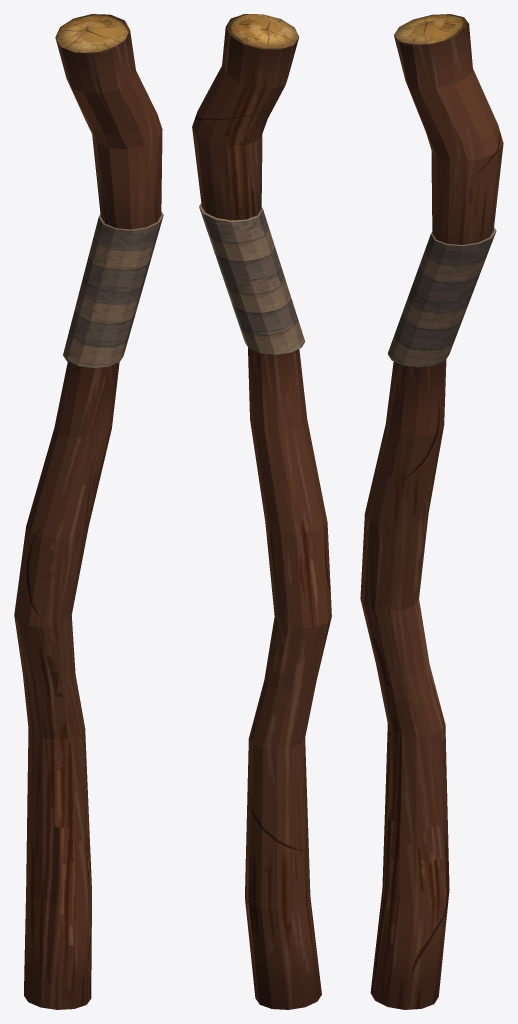
File: staff.glb
3 views of the same model, side by side, from view 1: azimuth 30°, elevation 25°; view 2: azimuth 150°, elevation 25°; view 3: azimuth 330°, elevation 25° (orthographic). The views are drawn at different scales.
Visible parts, largest first — view 1: staff; view 2: staff; view 3: staff.
Part boxes in pixels (x1=…): staff: x1=14, y1=14, x2=163, y2=1009; staff: x1=192, y1=14, x2=331, y2=1009; staff: x1=360, y1=14, x2=503, y2=1009.
Size of the model in its own units: 14.95 by 102 by 9.09.
Materials: 1 (1 with a texture image).
